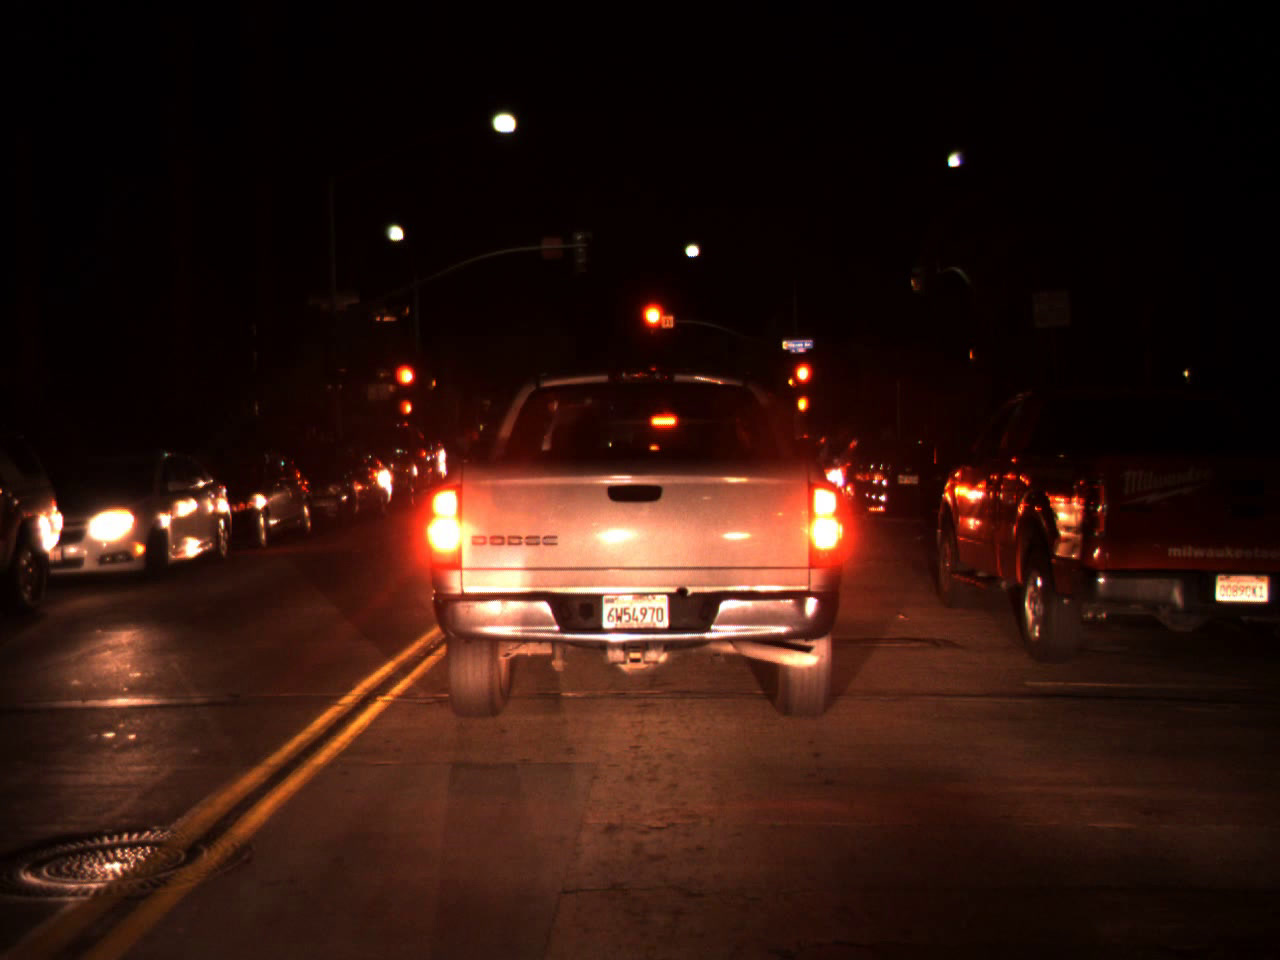stop: (392, 361, 417, 409), (639, 301, 666, 344), (792, 359, 816, 407)
